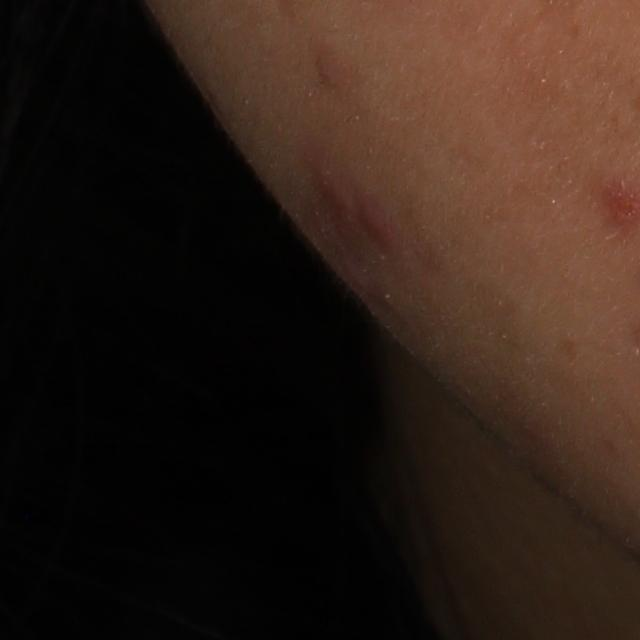papule: (362, 198, 396, 257)
